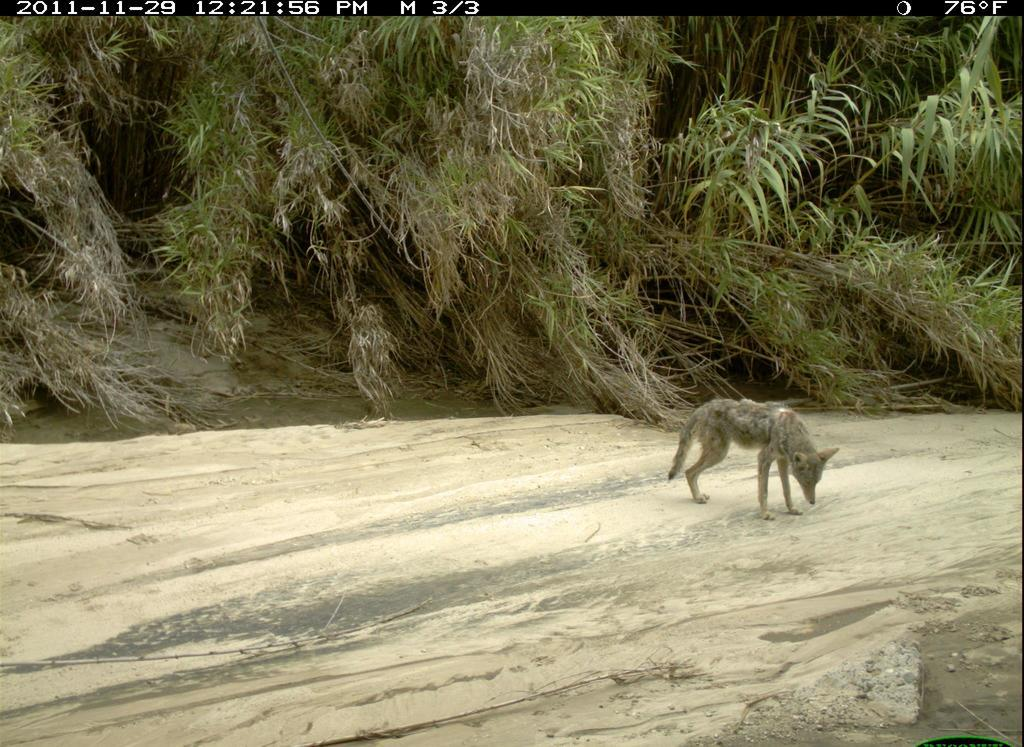coyote: (658, 395, 845, 527)
